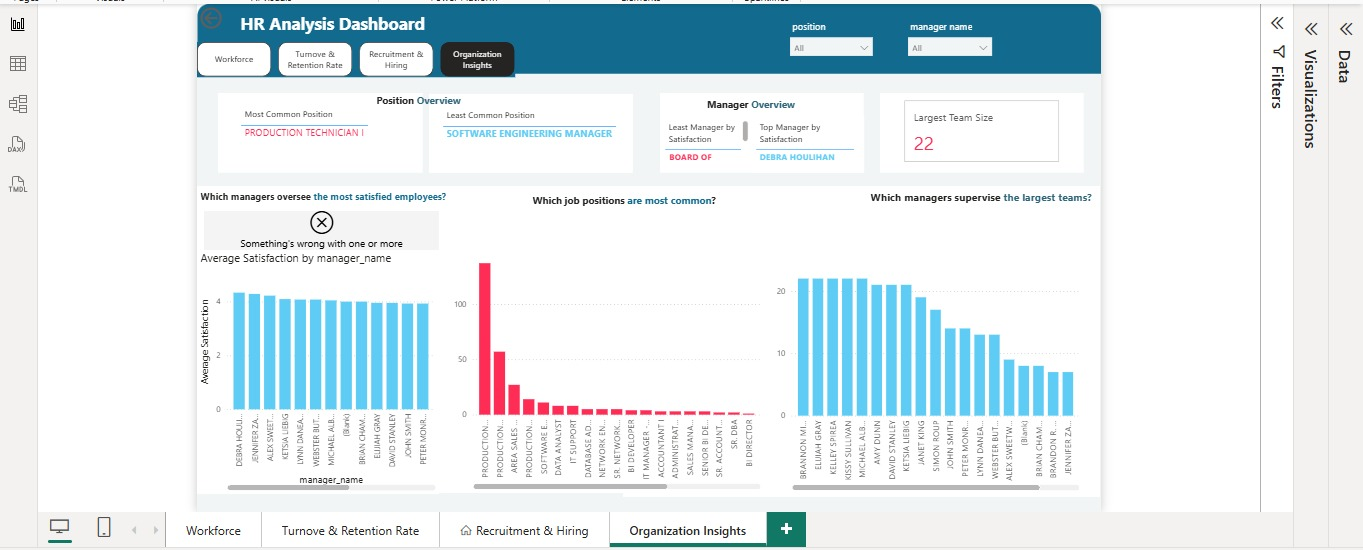

Layout of this report page (visuals, bound fields, positions):
{"tool":"powerbi","page":{"name":"Organization Insights","canvas":[1280,720],"ordinal":3},"visuals":[{"type":"shape","box":[603.8,258,676.1,440.8],"z":0},{"type":"shape","box":[0,258,603.8,435.1],"z":1000},{"type":"shape","box":[29.3,125.5,290.1,113],"z":2000},{"type":"clusteredColumnChart","fields":{"Y":["fact_hr_snapshot.No. of Emp"],"Category":["dim_manager.manager_name"]},"box":[816.4,348.7,439.4,345.8],"z":3000},{"type":"columnChart","fields":{"Category":["dim_position.position"],"Y":["fact_hr_snapshot.No. of Emp"]},"box":[358.6,348.7,445,344.4],"z":4000},{"type":"shape","box":[328.8,127.6,289.1,112],"z":5000},{"type":"shape","box":[655.6,125.5,288.7,113],"z":6000},{"type":"shape","box":[968,125.5,288.7,113],"z":7000},{"type":"textbox","box":[0,259.4,382.7,39.7],"z":8000},{"type":"textbox","box":[949.6,258,324.6,39.7],"z":9000},{"type":"textbox","box":[226.8,121.9,174.3,41.1],"z":10000},{"type":"textbox","box":[653.4,127.6,263.6,39.7],"z":11000},{"type":"slicer","fields":{"Values":["dim_position.position"]},"box":[830.6,18.4,137.5,70.9],"z":12000},{"type":"textbox","box":[57.2,5.6,344.5,58.6],"z":13000},{"type":"slicer","fields":{"Values":["dim_manager.manager_name"]},"box":[997.8,18.4,138.9,70.9],"z":14000},{"type":"ChicletSlicer1448559807354","fields":{"Category":["dim_department.dept_name"]},"box":[9.9,293.4,333.1,55.3],"z":15000},{"type":"cardVisual","fields":{"Data":["fact_hr_snapshot.Largest Team Size"]},"box":[997.8,131.8,229.6,97.8],"z":16000},{"type":"actionButton","box":[0,0,100,40],"z":17000},{"type":"textbox","box":[470.6,263.6,287.7,31.2],"z":18000},{"type":"columnChart","fields":{"Category":["dim_manager.manager_name"],"Y":["fact_hr_snapshot.Average Satisfaction"]},"box":[0,348.7,343,345.8],"z":19000},{"type":"tableEx","fields":{"Values":["fact_hr_snapshot.Least Manager"]},"box":[786.6,160.2,158.7,79.4],"z":20000},{"type":"tableEx","fields":{"Values":["fact_hr_snapshot.Top Manager"]},"box":[657.6,160.2,129,69.4],"z":21000},{"type":"tableEx","fields":{"Values":["fact_hr_snapshot.Most Common Position"]},"box":[56.7,141.7,211.2,83.6],"z":22000},{"type":"tableEx","fields":{"Values":["fact_hr_snapshot.Least Common Position"]},"box":[343,143.1,266.5,80.8],"z":23000}]}

Visuals, with their boxes on the page's 1280x720 design canvas (x1, y1, x2, y2). These are canvas units, not pixel positions in the 1363x550 screenshot, which may show the page scaled, cropped or inside an application window:
shape: pyautogui.locateOnScreen(604, 258, 1280, 699)
shape: pyautogui.locateOnScreen(0, 258, 604, 693)
shape: pyautogui.locateOnScreen(29, 126, 319, 238)
clusteredColumnChart - fact_hr_snapshot.No. of Emp x dim_manager.manager_name: pyautogui.locateOnScreen(816, 349, 1256, 694)
columnChart - dim_position.position x fact_hr_snapshot.No. of Emp: pyautogui.locateOnScreen(359, 349, 804, 693)
shape: pyautogui.locateOnScreen(329, 128, 618, 240)
shape: pyautogui.locateOnScreen(656, 126, 944, 238)
shape: pyautogui.locateOnScreen(968, 126, 1257, 238)
textbox: pyautogui.locateOnScreen(0, 259, 383, 299)
textbox: pyautogui.locateOnScreen(950, 258, 1274, 298)
textbox: pyautogui.locateOnScreen(227, 122, 401, 163)
textbox: pyautogui.locateOnScreen(653, 128, 917, 167)
slicer - dim_position.position: pyautogui.locateOnScreen(831, 18, 968, 89)
textbox: pyautogui.locateOnScreen(57, 6, 402, 64)
slicer - dim_manager.manager_name: pyautogui.locateOnScreen(998, 18, 1137, 89)
ChicletSlicer1448559807354 - dim_department.dept_name: pyautogui.locateOnScreen(10, 293, 343, 349)
cardVisual - fact_hr_snapshot.Largest Team Size: pyautogui.locateOnScreen(998, 132, 1227, 230)
actionButton: pyautogui.locateOnScreen(0, 0, 100, 40)
textbox: pyautogui.locateOnScreen(471, 264, 758, 295)
columnChart - dim_manager.manager_name x fact_hr_snapshot.Average Satisfaction: pyautogui.locateOnScreen(0, 349, 343, 694)
tableEx - fact_hr_snapshot.Least Manager: pyautogui.locateOnScreen(787, 160, 945, 240)
tableEx - fact_hr_snapshot.Top Manager: pyautogui.locateOnScreen(658, 160, 787, 230)
tableEx - fact_hr_snapshot.Most Common Position: pyautogui.locateOnScreen(57, 142, 268, 225)
tableEx - fact_hr_snapshot.Least Common Position: pyautogui.locateOnScreen(343, 143, 610, 224)
